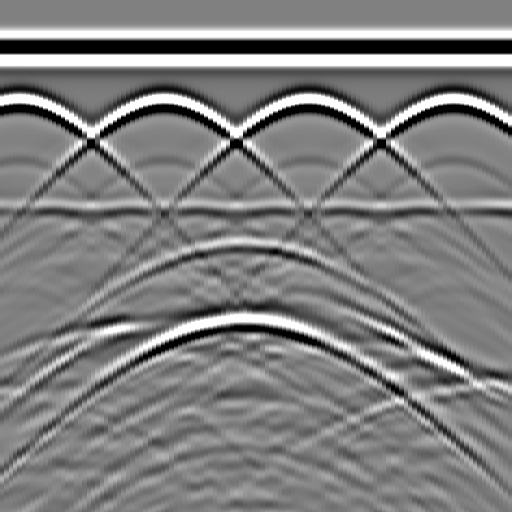grout_surface: (1, 195, 512, 225)
rebar: (142, 82, 182, 122), (286, 82, 326, 122), (430, 82, 470, 122)
rock_surface: (1, 289, 511, 393)
water_void: (212, 221, 272, 261)
